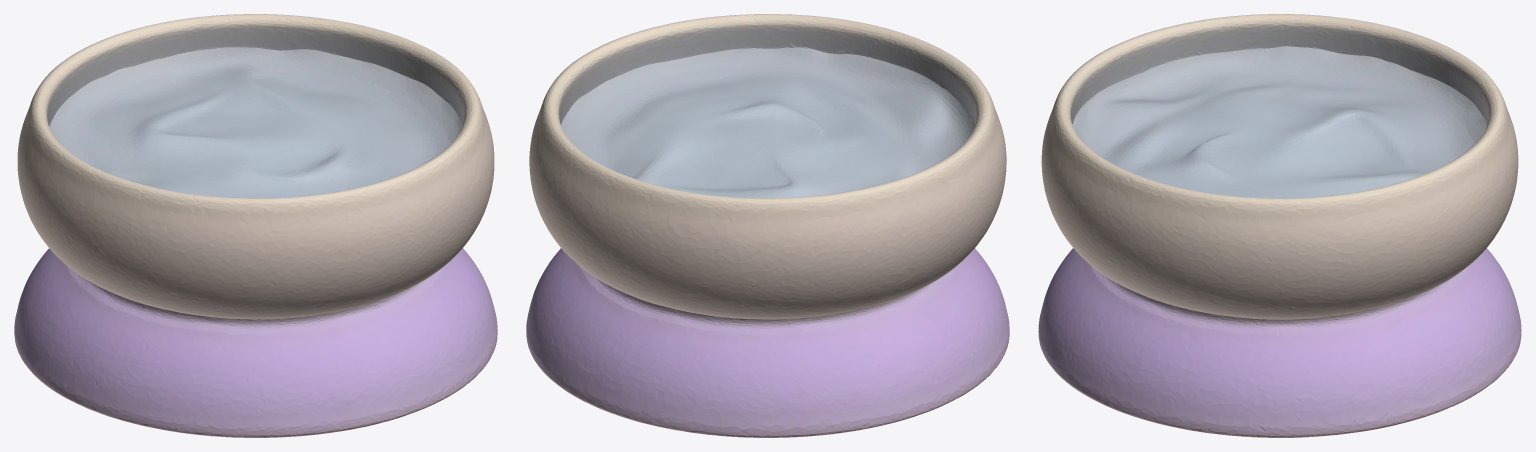
The model's file is bowl_water_6.glb.
3 views of the same model, side by side, from view 1: azimuth 30°, elevation 25°; view 2: azimuth 150°, elevation 25°; view 3: azimuth 270°, elevation 25° (orthographic).
Visible parts, largest first — view 1: tripo_node_4e6ce64a-0561-479e-af11-dbac753f01dc; view 2: tripo_node_4e6ce64a-0561-479e-af11-dbac753f01dc; view 3: tripo_node_4e6ce64a-0561-479e-af11-dbac753f01dc.
Boxes of the visible parts, x1=… form: tripo_node_4e6ce64a-0561-479e-af11-dbac753f01dc: x1=14, y1=14, x2=497, y2=437; tripo_node_4e6ce64a-0561-479e-af11-dbac753f01dc: x1=526, y1=14, x2=1009, y2=437; tripo_node_4e6ce64a-0561-479e-af11-dbac753f01dc: x1=1038, y1=14, x2=1521, y2=437.
Bounding box in the file's own units: 0.9997 × 0.5373 × 0.9996.
1 material, 1 textured.
